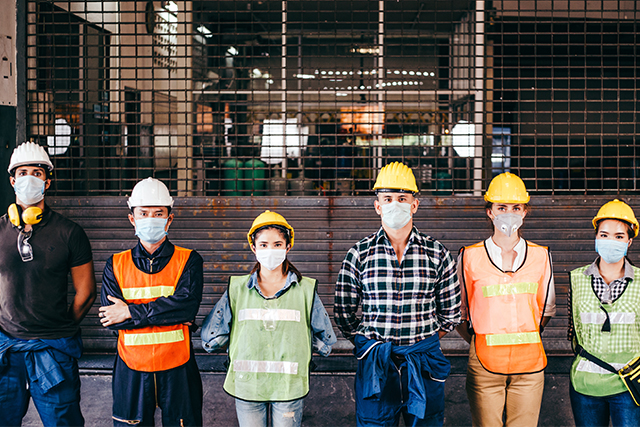Safety Helmet: (111, 167, 188, 263), (365, 153, 429, 242), (238, 205, 302, 289), (475, 165, 538, 249), (586, 195, 640, 279), (4, 136, 55, 216)
